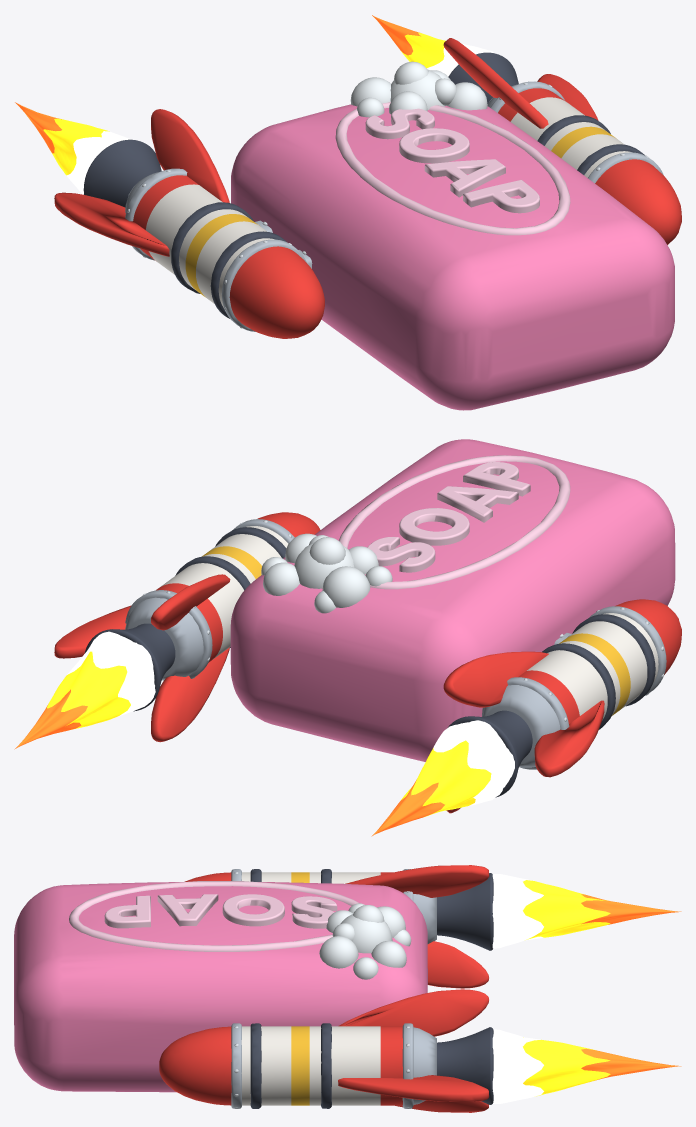
File: soap-rocket-mid.glb
The picture shows the model from 3 angles, top to bottom: view 1: azimuth 30°, elevation 25°; view 2: azimuth 150°, elevation 25°; view 3: azimuth 270°, elevation 25°; orthographic projection. The views are drawn at different scales.
Parts seen in each view (by area): view 1: Soap, Booster_Left, Booster_Right, Soap_Suds, Booster_Brackets, Flame_Left, Flame_Right; view 2: Soap, Booster_Left, Booster_Right, Flame_Right, Flame_Left, Soap_Suds, Booster_Brackets; view 3: Soap, Booster_Right, Booster_Left, Flame_Right, Flame_Left, Soap_Suds, Booster_Brackets.
Boxes of the visible parts, x1=… form: Soap: x1=231, y1=102, x2=674, y2=410; Booster_Left: x1=54, y1=109, x2=324, y2=338; Booster_Right: x1=443, y1=38, x2=681, y2=244; Soap_Suds: x1=350, y1=61, x2=487, y2=117; Booster_Brackets: x1=171, y1=115, x2=644, y2=318; Flame_Left: x1=15, y1=102, x2=131, y2=194; Flame_Right: x1=372, y1=15, x2=494, y2=76; Soap: x1=230, y1=439, x2=675, y2=761; Booster_Left: x1=443, y1=599, x2=681, y2=813; Booster_Right: x1=54, y1=512, x2=320, y2=742; Flame_Right: x1=14, y1=631, x2=155, y2=749; Flame_Left: x1=371, y1=720, x2=514, y2=836; Soap_Suds: x1=261, y1=533, x2=392, y2=613; Booster_Brackets: x1=175, y1=527, x2=655, y2=729; Soap: x1=14, y1=881, x2=427, y2=1092; Booster_Right: x1=159, y1=989, x2=493, y2=1112; Booster_Left: x1=184, y1=865, x2=493, y2=988; Flame_Right: x1=492, y1=1029, x2=681, y2=1103; Flame_Left: x1=492, y1=874, x2=681, y2=948; Soap_Suds: x1=319, y1=903, x2=411, y2=979; Booster_Brackets: x1=250, y1=869, x2=331, y2=1108.
Bounding box in the file's own units: 1.25 × 0.4511 × 1.61.
